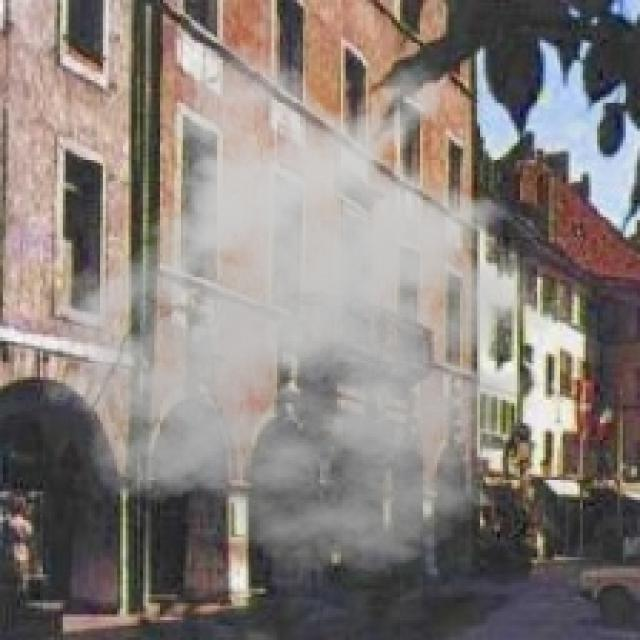Smoke: (29, 39, 598, 574)
